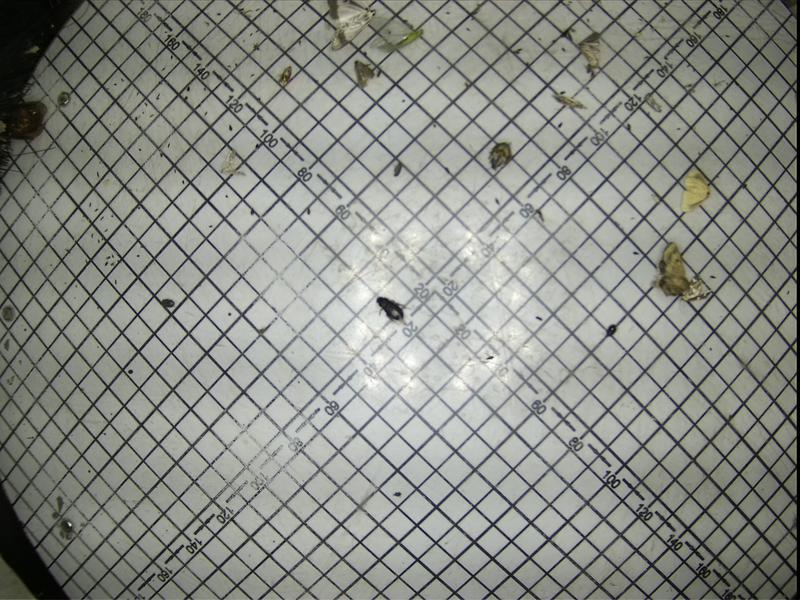Bollworm: (648, 238, 692, 304)
